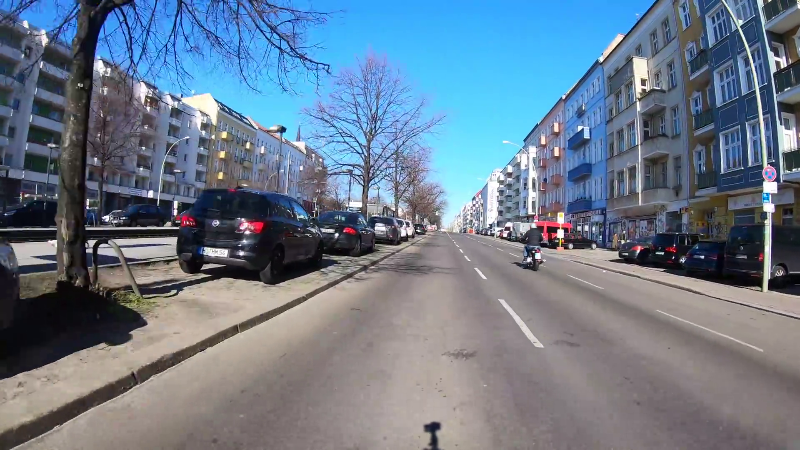Plate: (196, 244, 231, 258), (319, 226, 337, 233)
